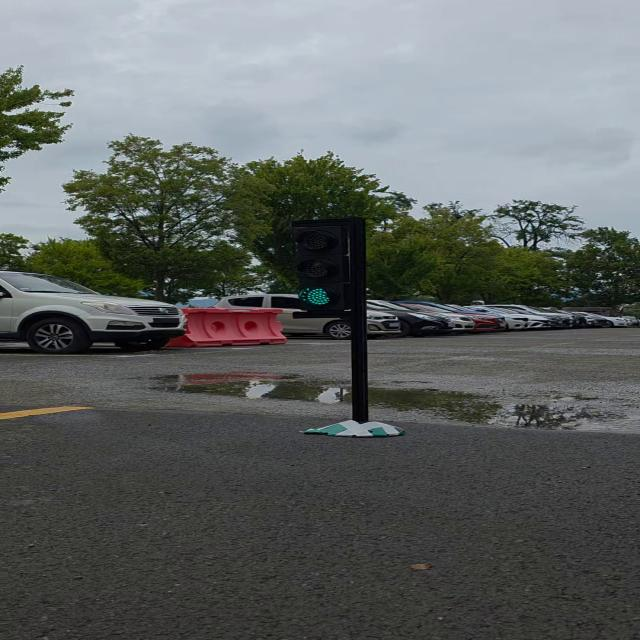green: (289, 219, 361, 313)
